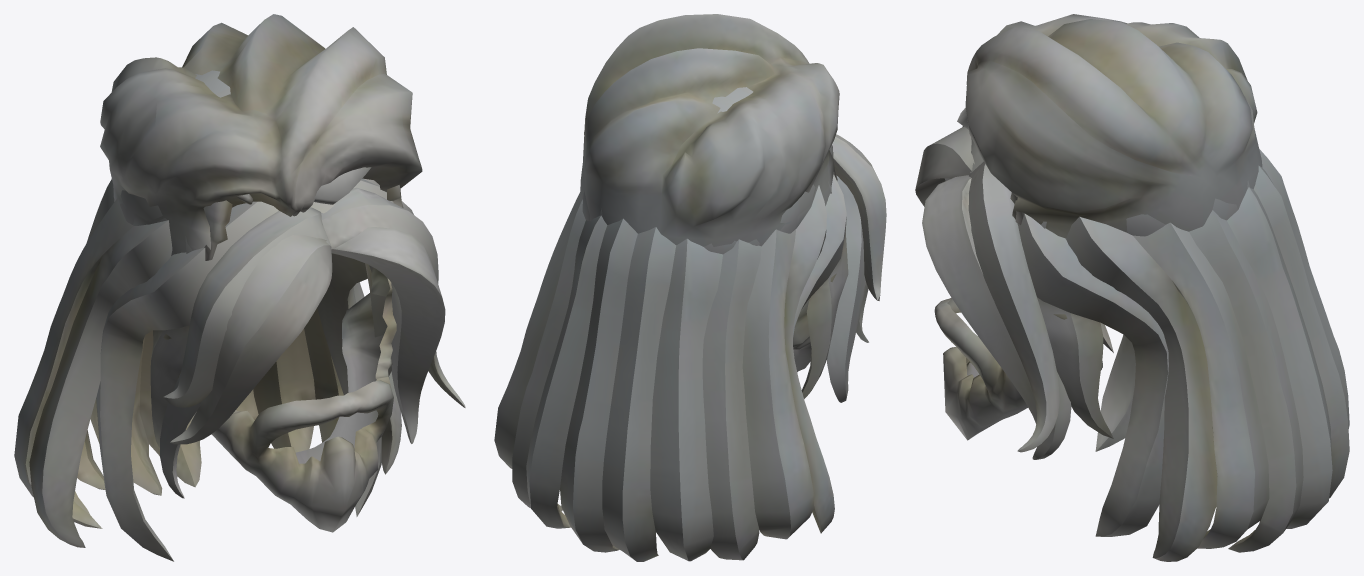
Rendered from cabelos.glb.
3 views of the same model, side by side, from view 1: azimuth 30°, elevation 25°; view 2: azimuth 150°, elevation 25°; view 3: azimuth 270°, elevation 25° (orthographic). The views are drawn at different scales.
Parts seen in each view (by area): view 1: Hair_Long, Hair_SimpleParted, Hair_Beard, Hair_Buzzed; view 2: Hair_Long, Hair_SimpleParted, Hair_Buzzed, Hair_Beard; view 3: Hair_Long, Hair_SimpleParted, Hair_Beard, Hair_Buzzed.
Part boxes in pixels (box(x1,y1,x2,y2)): Hair_Long: box(14, 178, 465, 561); Hair_SimpleParted: box(100, 14, 422, 254); Hair_Beard: box(163, 267, 396, 532); Hair_Buzzed: box(113, 70, 403, 260); Hair_Long: box(494, 134, 886, 561); Hair_SimpleParted: box(580, 14, 839, 246); Hair_Buzzed: box(582, 87, 837, 254); Hair_Beard: box(793, 273, 836, 371); Hair_Long: box(915, 126, 1349, 561); Hair_SimpleParted: box(965, 14, 1262, 238); Hair_Beard: box(934, 297, 1102, 440); Hair_Buzzed: box(957, 107, 1249, 239).
Bounding box in the file's own units: 0.2447 × 0.3389 × 0.2704.
2 materials, 2 textured.
